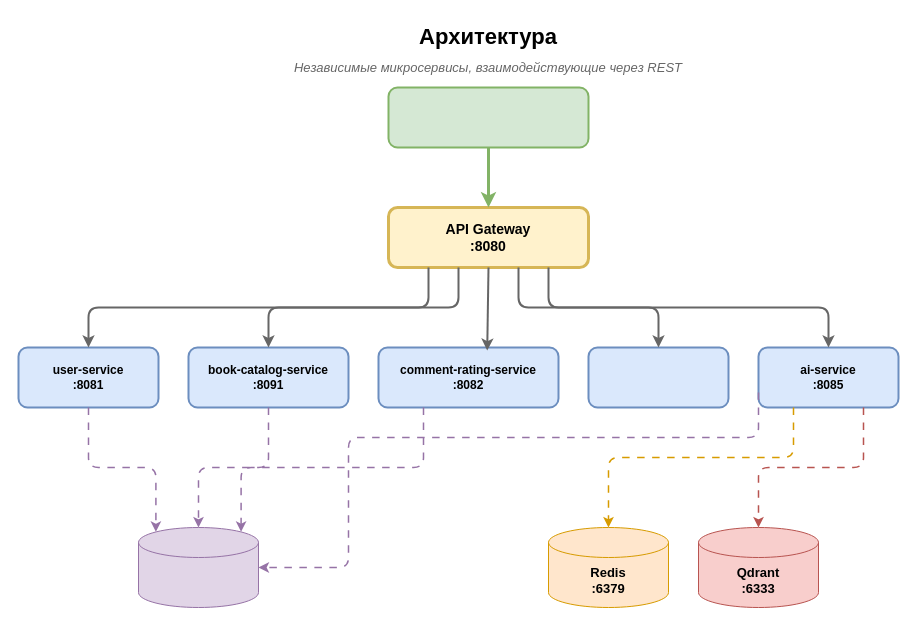
Some shapes in this 916 by 625 pixel diagram are drawn without their labels. Here are the shapes that lost their labels. From the top down, the centre of each, then its label:
pixel 488 117: Vue 3 Nginx :80
pixel 658 377: storage-service :8083
pixel 198 567: PostgreSQL :5432
